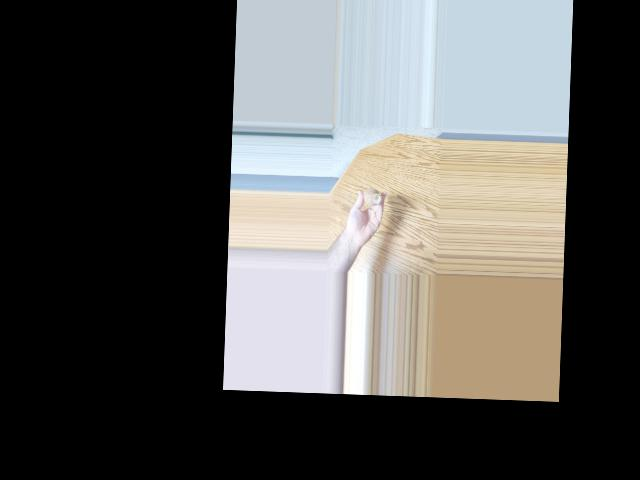sweet_potato: (362, 186, 380, 206)
